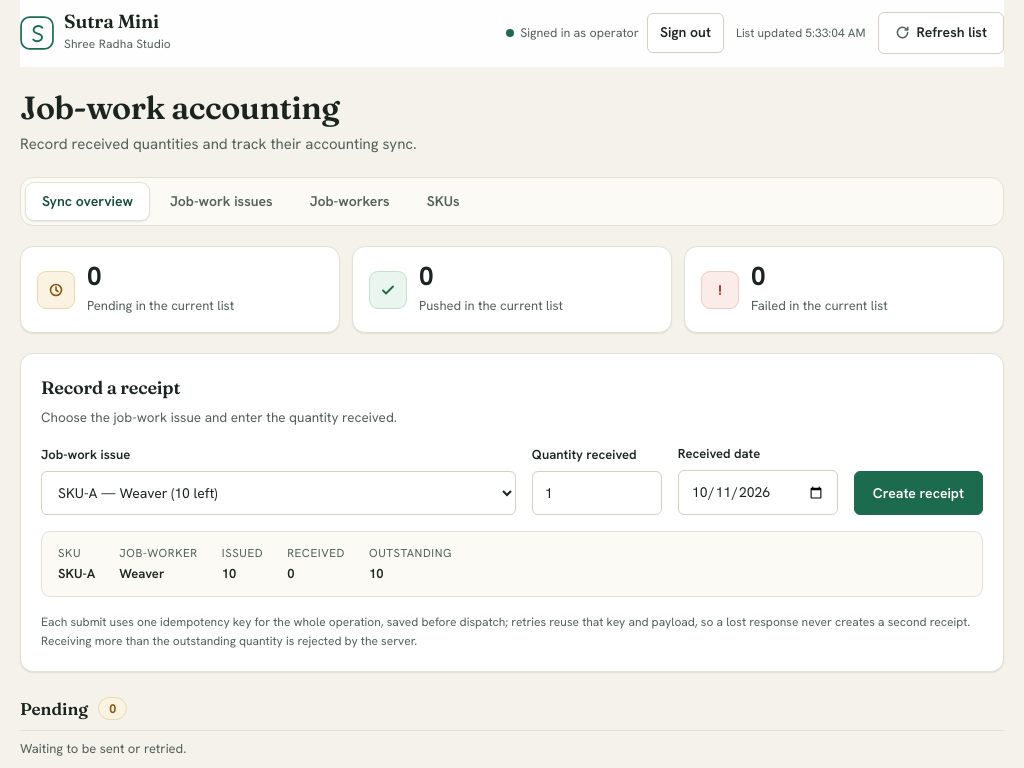
SyncPage refresh list › preserves existing data and re-enables the button on a full failure
The image size is (1024, 768).
Click the button "Refresh list" at coordinates (941, 33), box left=878, top=12, right=1004, bottom=54
Wait 10 ms
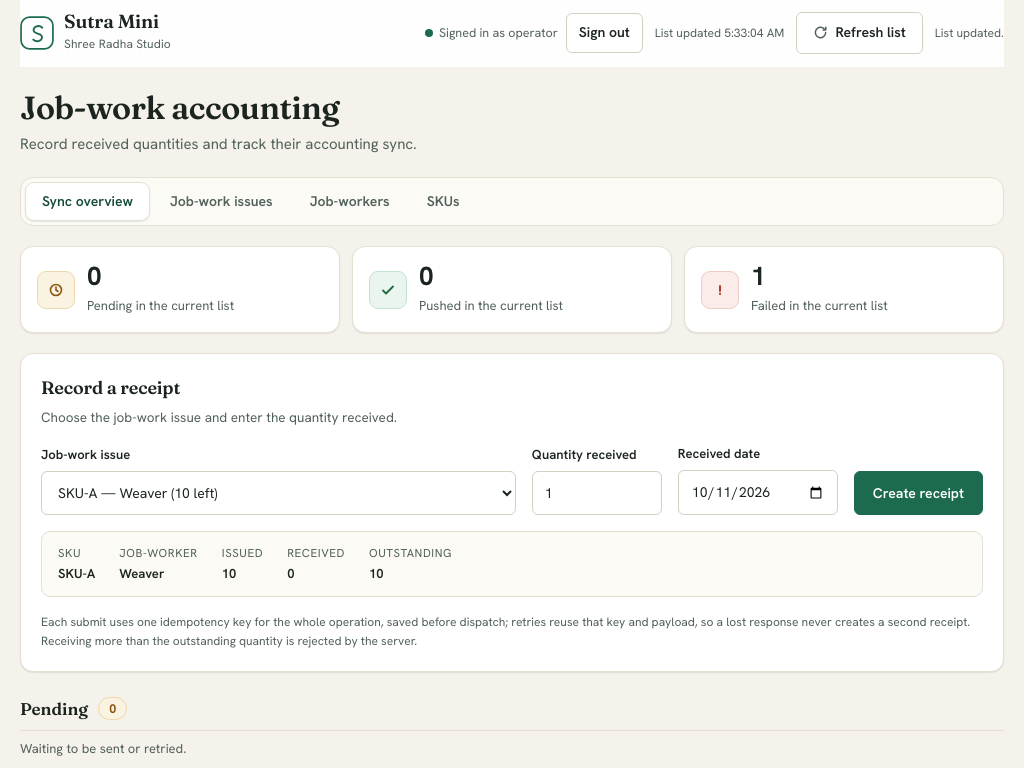
Click the button "Refresh list" at coordinates (860, 33), box left=796, top=12, right=923, bottom=54
Wait 10 ms
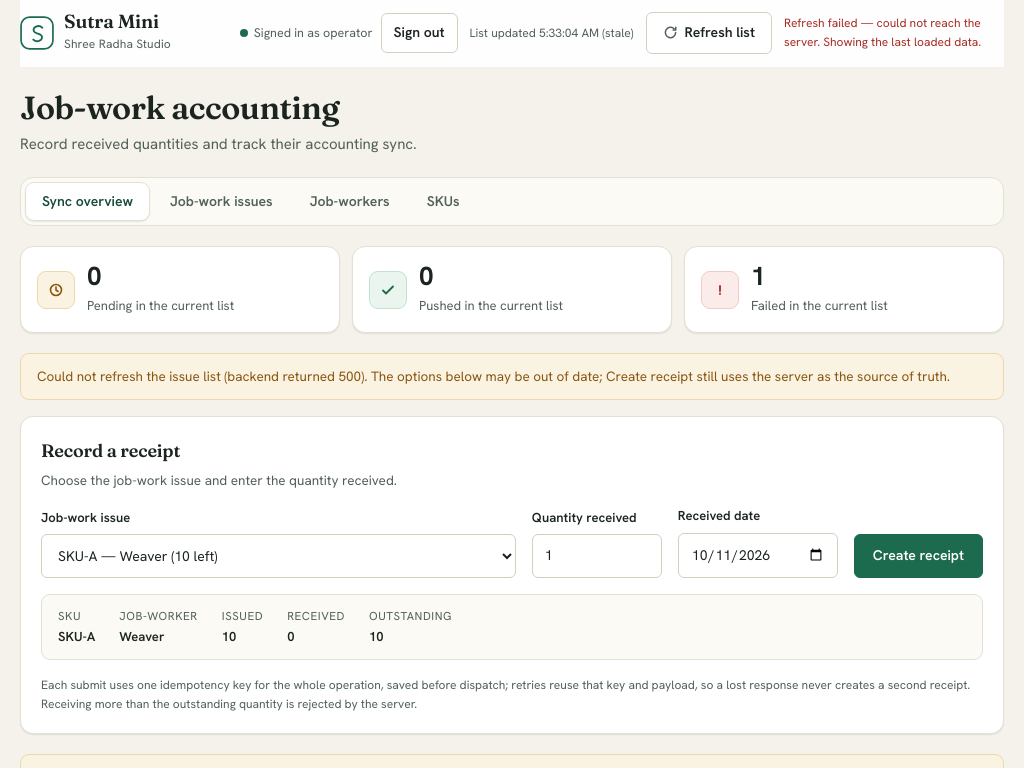
Expected: the button "Refresh list" is enabled, left=646, top=12, right=772, bottom=54
Expected: the text "Refresh failed — could not reach the server. Showing the last loaded data." is shown, left=784, top=14, right=1004, bottom=52
